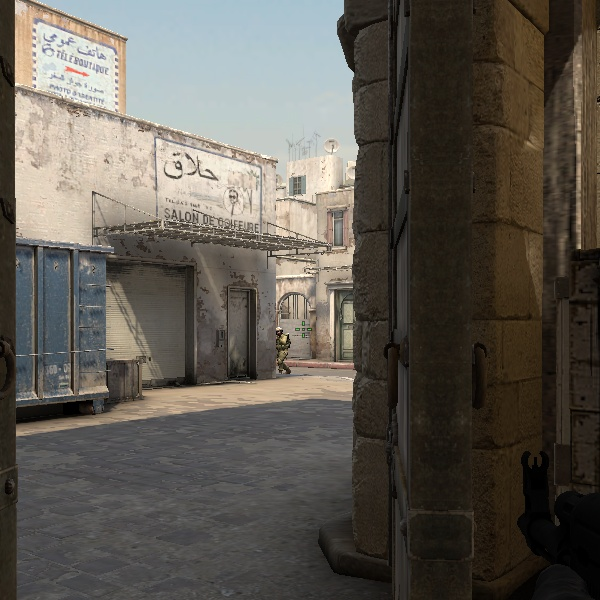ct_body: (269, 324, 293, 375)
ct_head: (274, 326, 285, 336)
